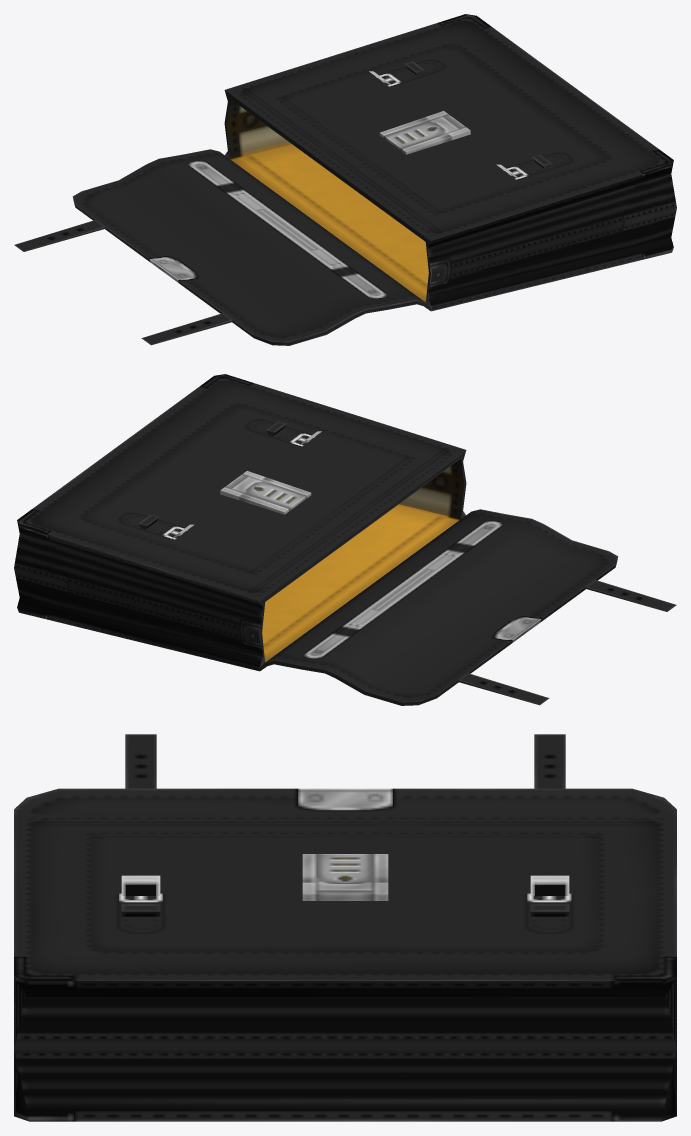
Rendered from School_bag_B_01_02.fbx.
3 renders of one model, top to bottom at view 1: azimuth 30°, elevation 25°; view 2: azimuth 150°, elevation 25°; view 3: azimuth 270°, elevation 25°, orthographic. The views are drawn at different scales.
Visible parts, largest first — view 1: school_bag_B_01_02; view 2: school_bag_B_01_02; view 3: school_bag_B_01_02.
Boxes of the visible parts, left/top/right/bottom form: school_bag_B_01_02: left=14, top=14, right=676, bottom=345; school_bag_B_01_02: left=14, top=374, right=676, bottom=705; school_bag_B_01_02: left=14, top=734, right=676, bottom=1121.
Size of the model in its own units: 53.74 by 9.13 by 39.
